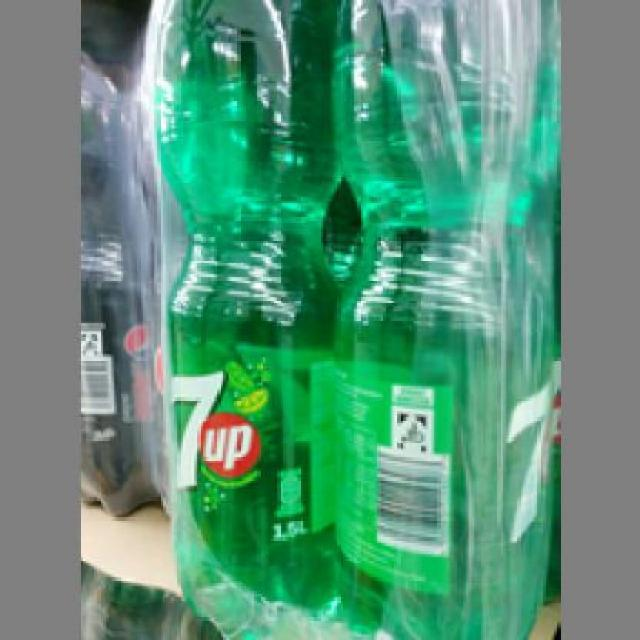Soda: (326, 0, 554, 637), (146, 0, 337, 617)
